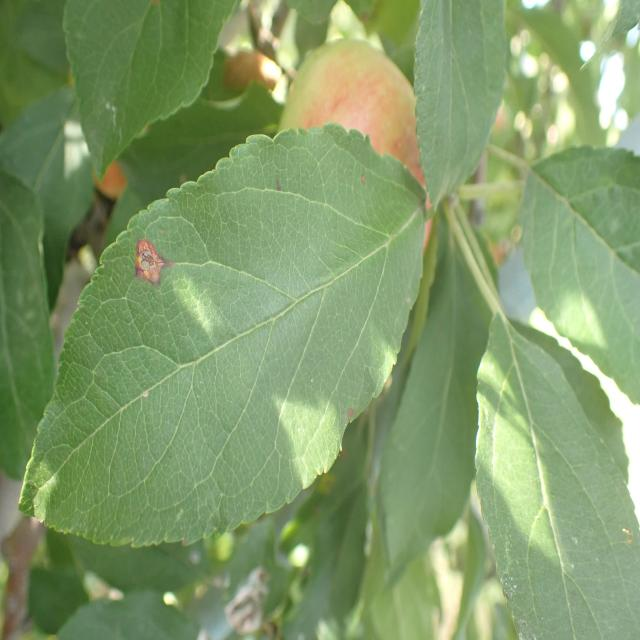Rust: (129, 220, 178, 300)
